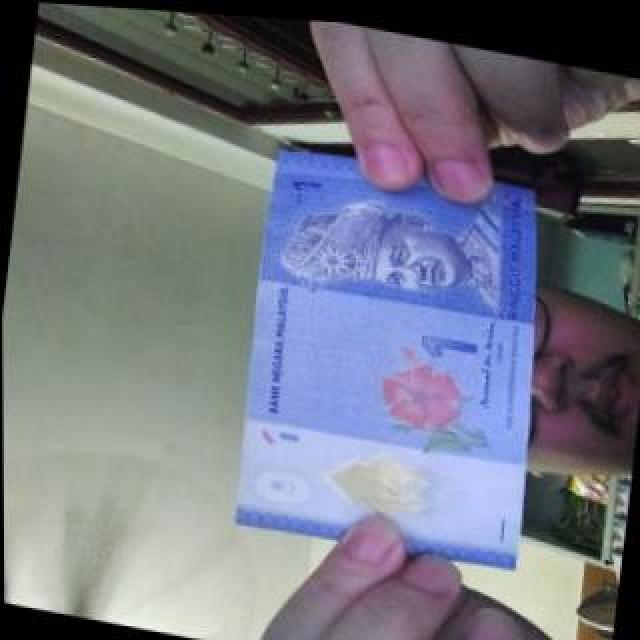1 Ringgit: (224, 130, 560, 572)
